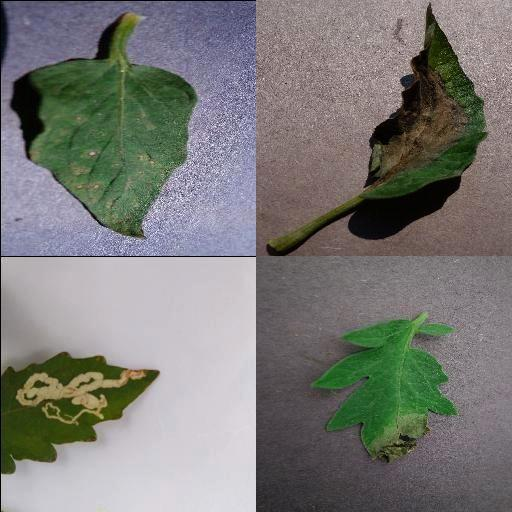Late Blight: (356, 0, 486, 199), (308, 319, 454, 467)
Leaf Miner: (0, 350, 159, 475)
Septoria: (26, 57, 198, 243)
